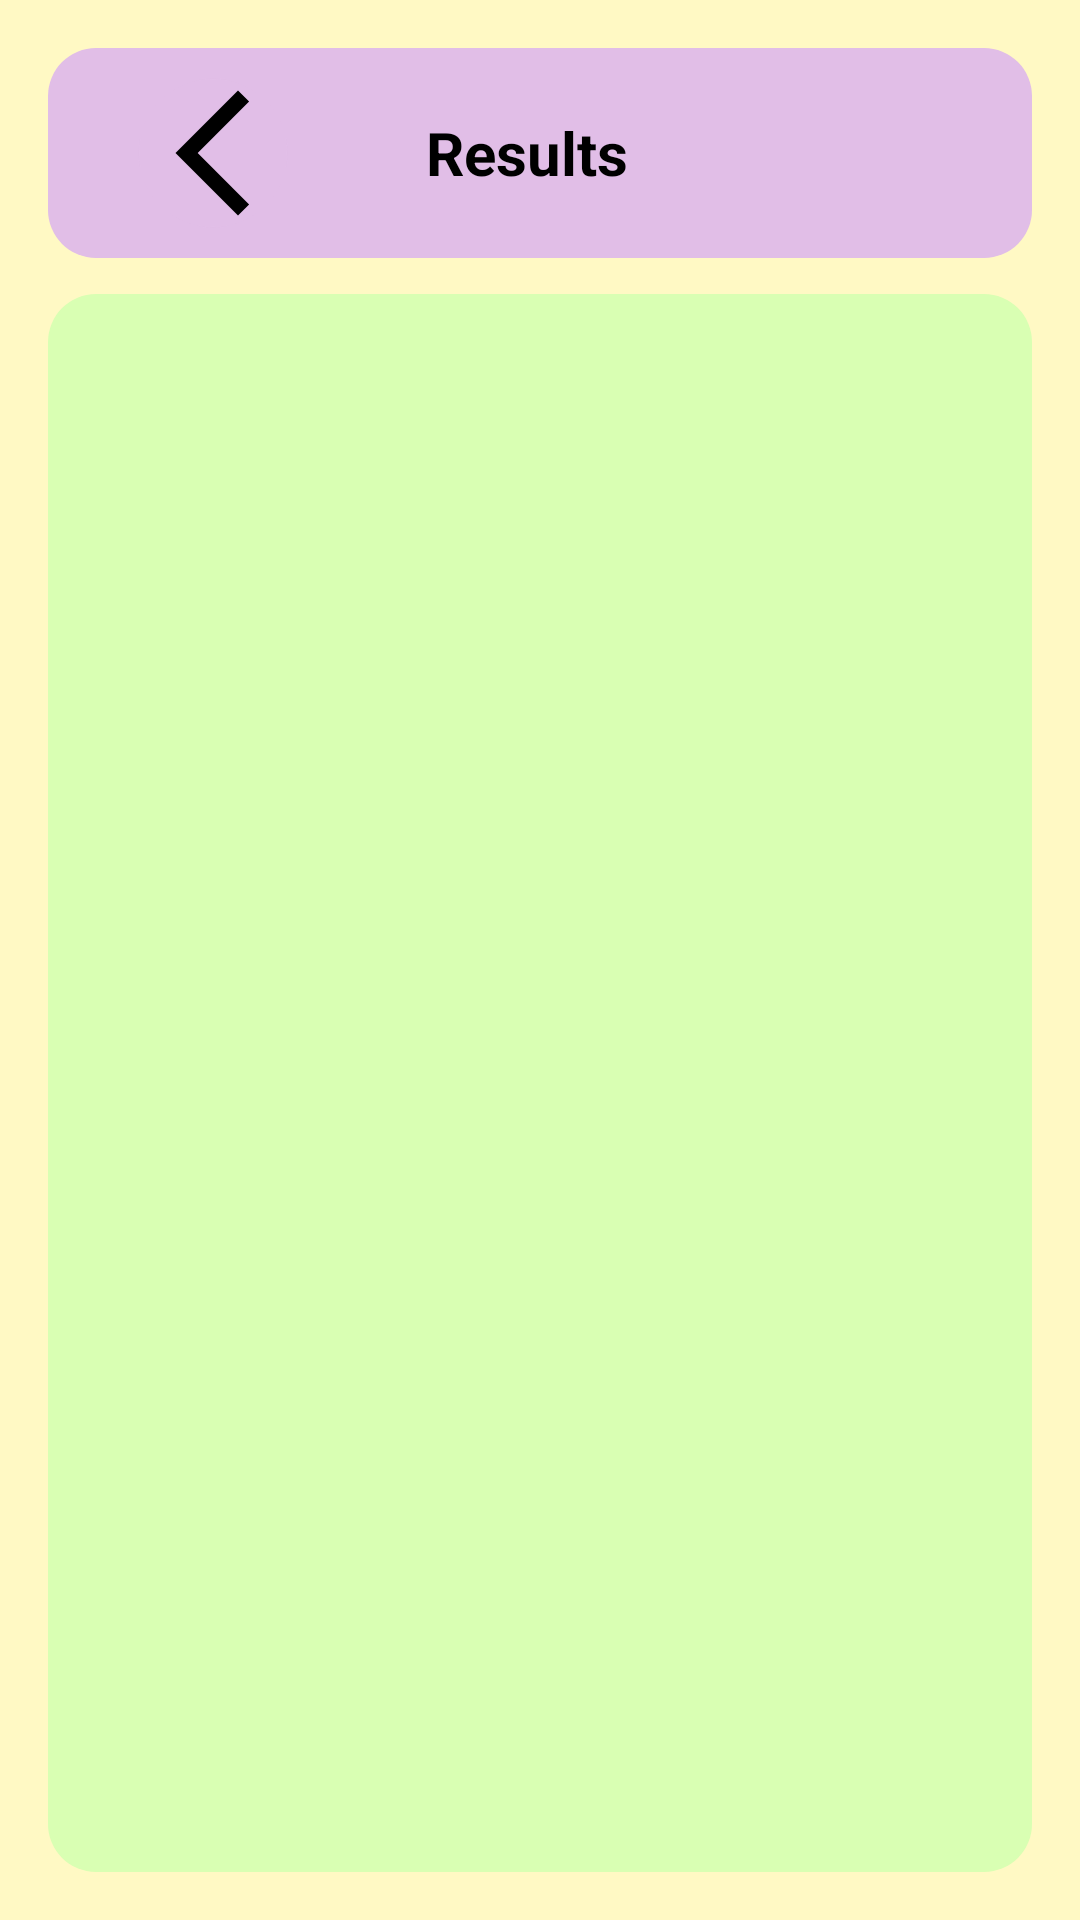

Locate icon controls on the screen. Image size 1080 x 1920, boxes as (x1, y1, x2, y2).
arrow back: (175, 90, 249, 216)
